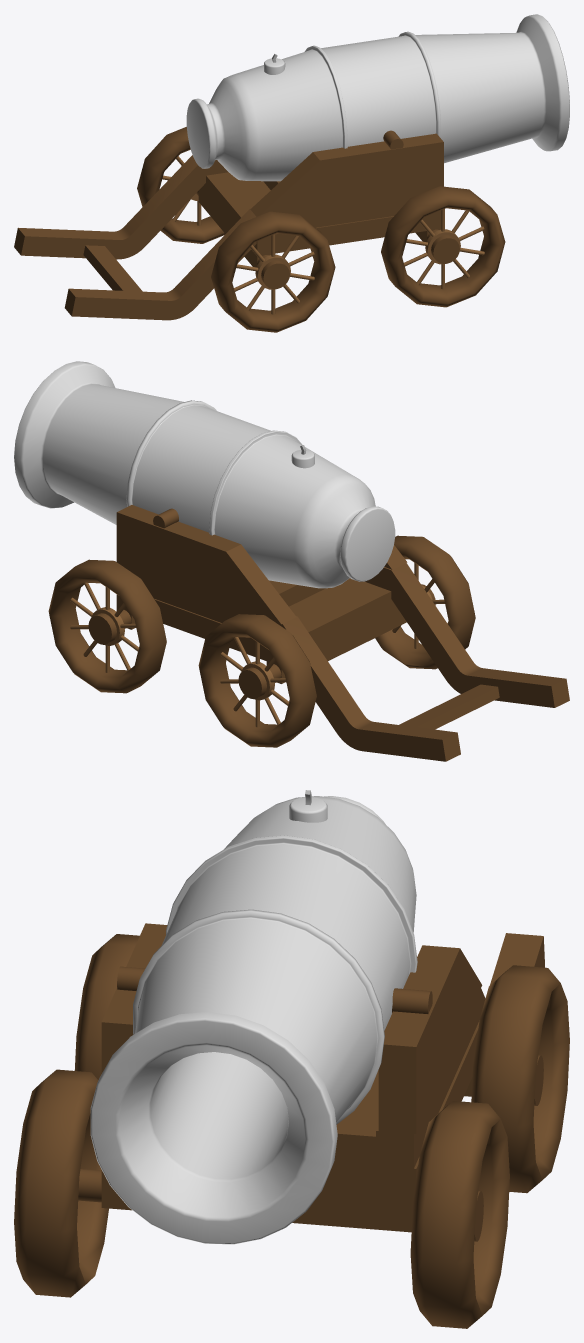
The model's file is Cannons.glb.
3 views of the same model, one above another, from view 1: azimuth 30°, elevation 25°; view 2: azimuth 150°, elevation 25°; view 3: azimuth 270°, elevation 25° (orthographic). The views are drawn at different scales.
Visible parts, largest first — view 1: Root; view 2: Root; view 3: Root.
Part boxes in pixels (<box>): Root: <box>14,14,569,332</box>; Root: <box>14,361,569,761</box>; Root: <box>14,790,569,1328</box>.
Bounding box in the file's own units: 3.93 × 1.75 × 2.17.
